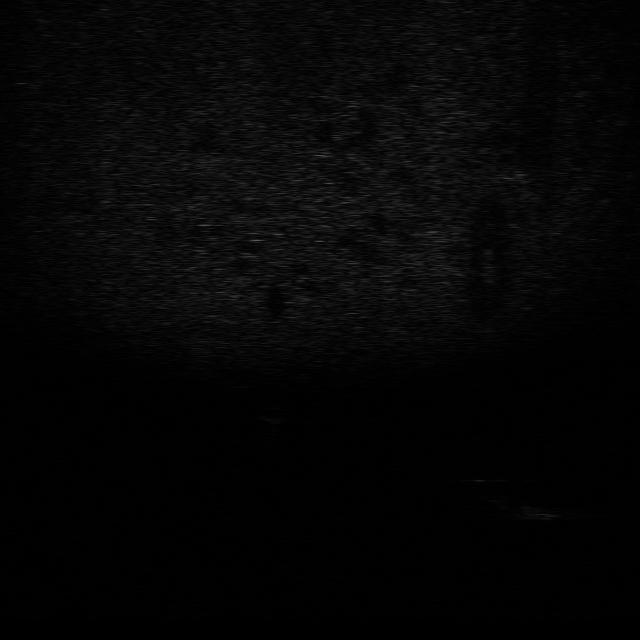ball: (258, 404, 290, 426)
metal bucket: (505, 499, 561, 525)
tyre: (464, 476, 515, 509)
